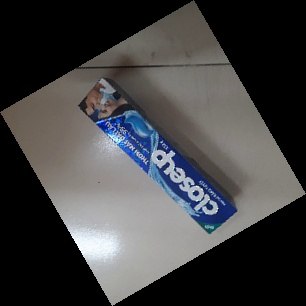CloseUp Tuyet: (77, 78, 240, 237)
